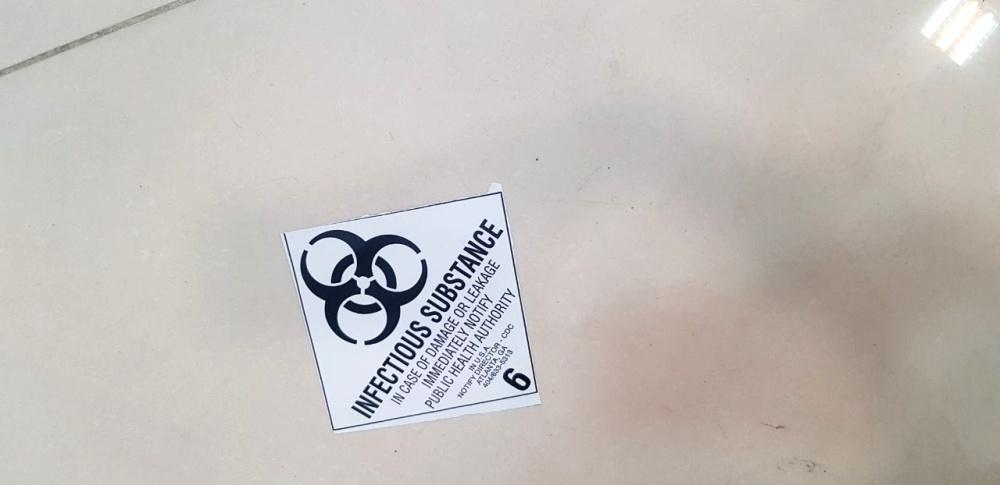infectious-substance: (281, 190, 543, 436)
